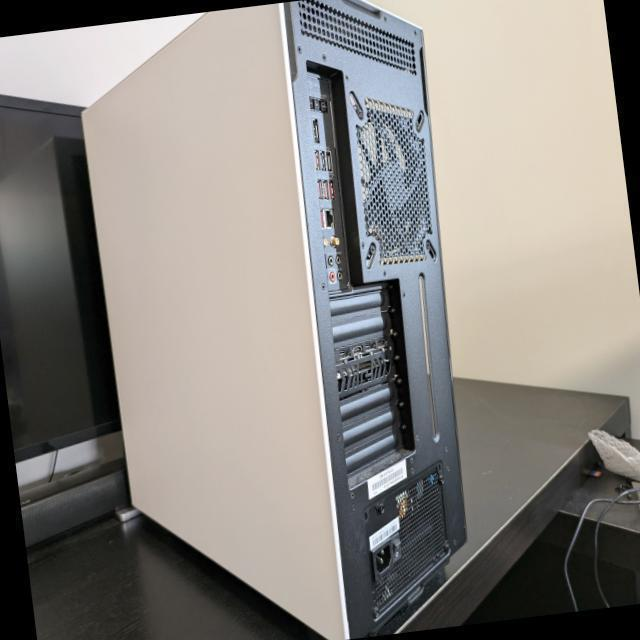PSU: (354, 462, 458, 621)
